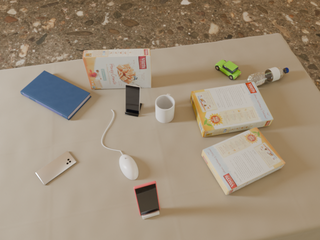book: (20, 71, 91, 120)
bottle: (247, 67, 289, 86)
box: (202, 127, 285, 195), (190, 82, 273, 137), (83, 49, 151, 89)
cup: (156, 94, 175, 123)
mouse: (119, 155, 138, 180)
phone: (36, 151, 76, 185), (134, 181, 160, 215), (125, 84, 140, 113)
toy_car: (215, 60, 241, 80)
